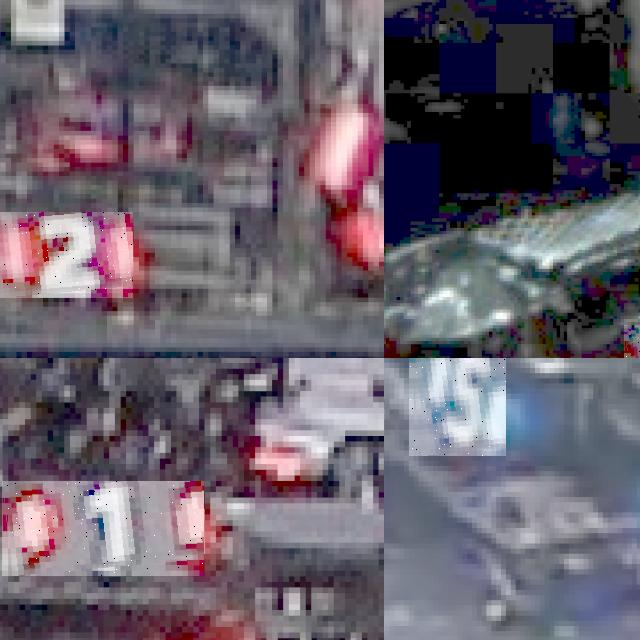B5: (409, 358, 506, 455)
R1: (2, 481, 204, 576)
R2: (0, 212, 133, 297)
